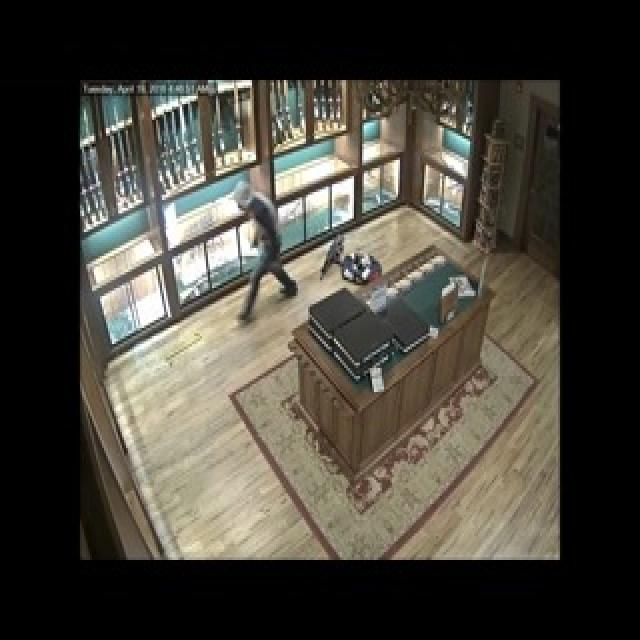thief: (226, 177, 296, 321)
